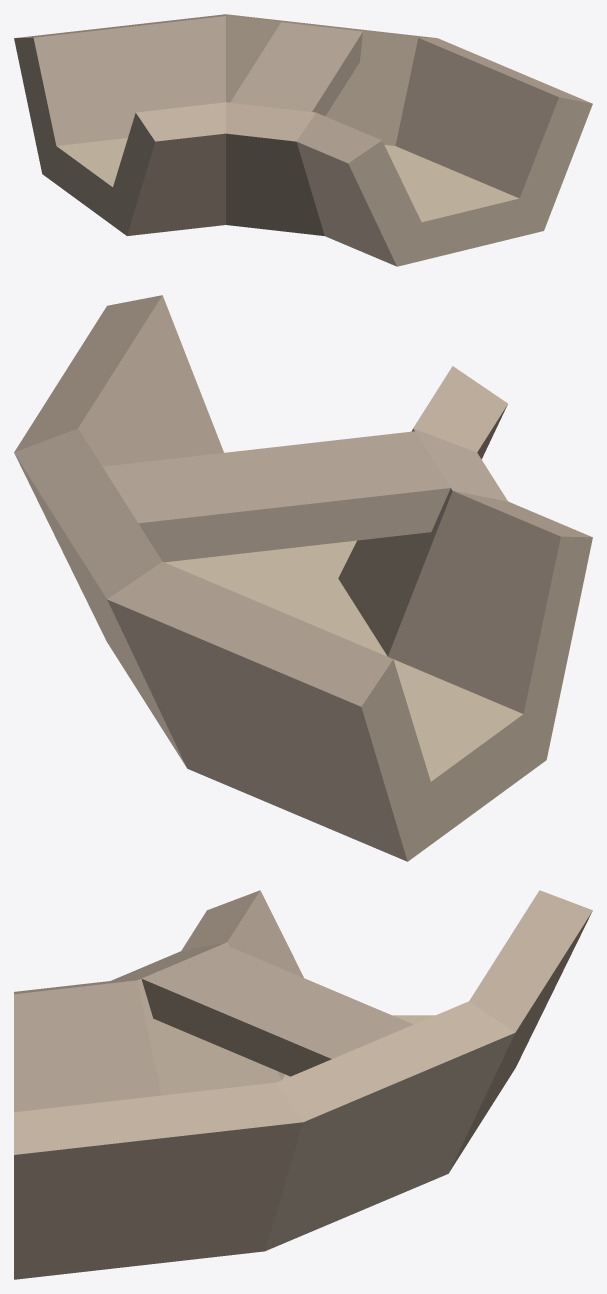
The model's file is Waterwheel_Flume_Curved.glb.
The picture shows the model from 3 angles, top to bottom: view 1: azimuth 30°, elevation 25°; view 2: azimuth 150°, elevation 25°; view 3: azimuth 270°, elevation 25°; orthographic projection. The views are drawn at different scales.
Visible parts, largest first — view 1: Waterwheel_Flume_Curved; view 2: Waterwheel_Flume_Curved; view 3: Waterwheel_Flume_Curved.
Part boxes in pixels (x1,y1,x2,y2): Waterwheel_Flume_Curved: [14, 14, 592, 266]; Waterwheel_Flume_Curved: [14, 295, 592, 861]; Waterwheel_Flume_Curved: [14, 890, 592, 1279].
Bounding box in the file's own units: 0.36 × 0.1218 × 0.36.
